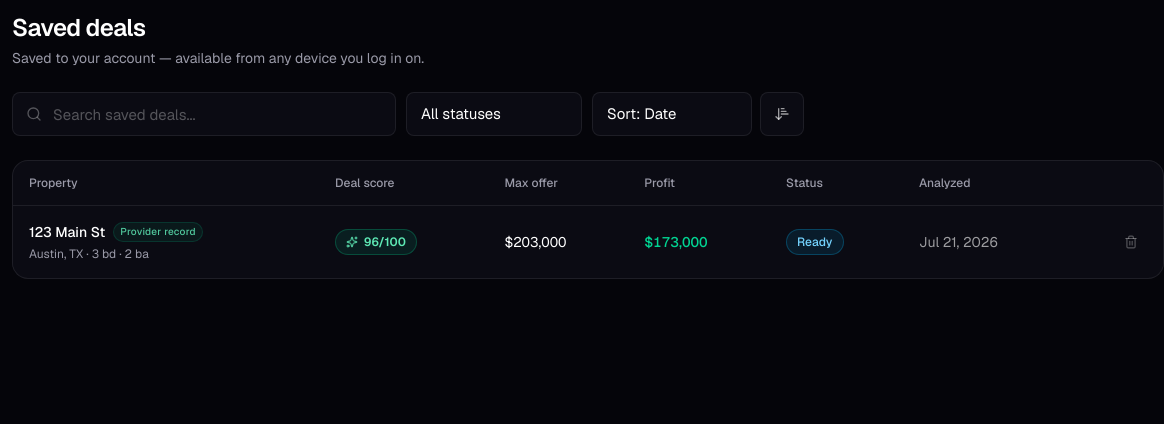
Test: DealsListPage — search, filter, sort › shows a 'no matching deals' message when search/filter yields nothing
The width and height of the screenshot is (1164, 424).
Type "no such address anywhere" into the search field labelled "Search saved deals" at (204, 114), box [12,92,396,136]
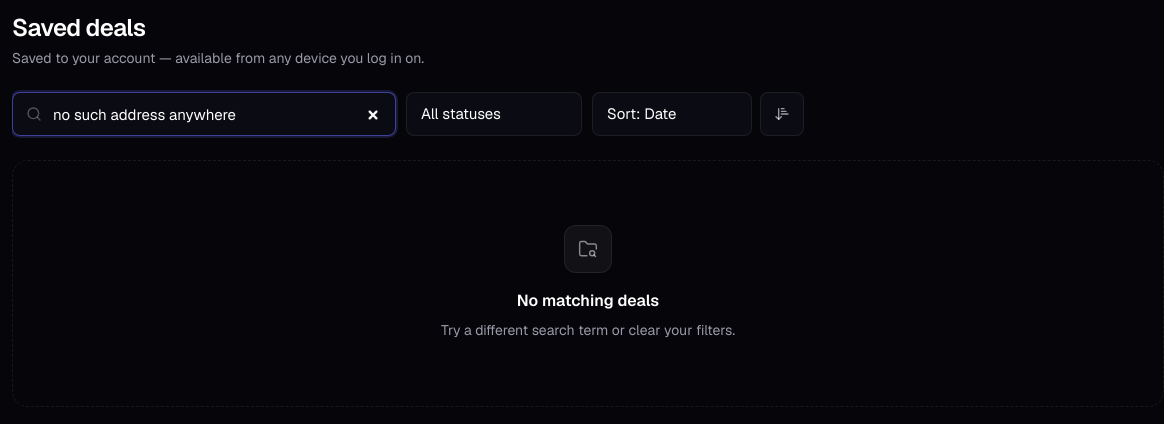
Check: the heading "No matching deals" is shown, box [517,289,659,313]
